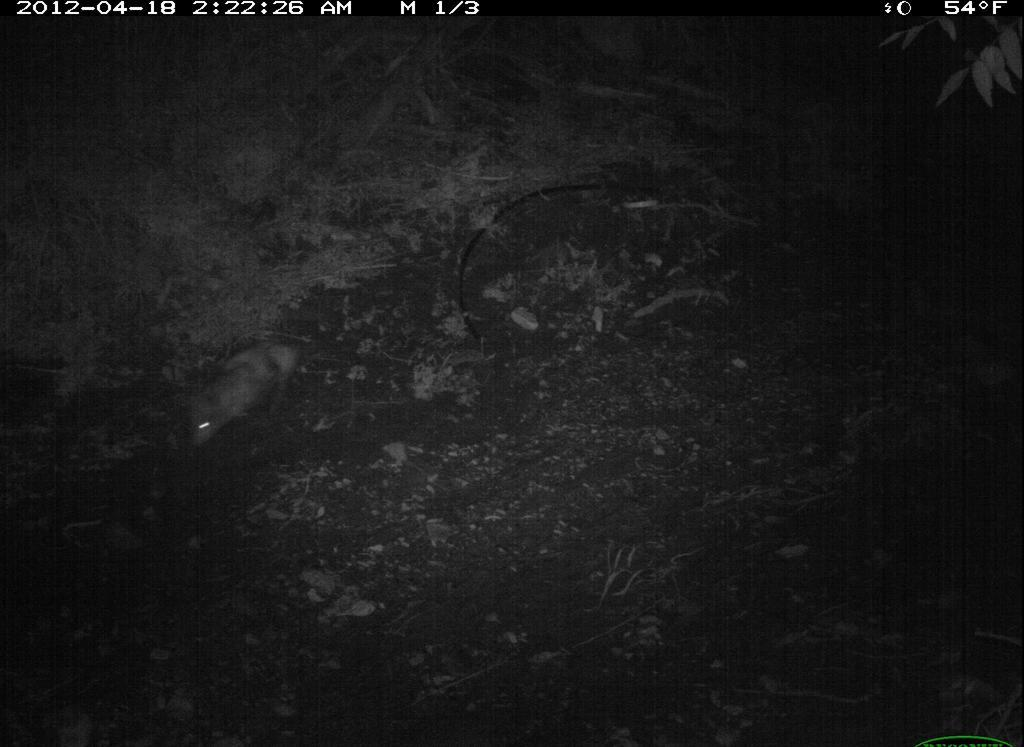opossum: (172, 336, 308, 456)
